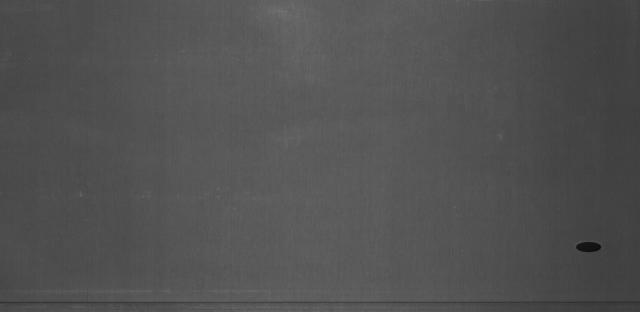punching_hole: (572, 239, 610, 258)
welding_line: (1, 291, 636, 311)
